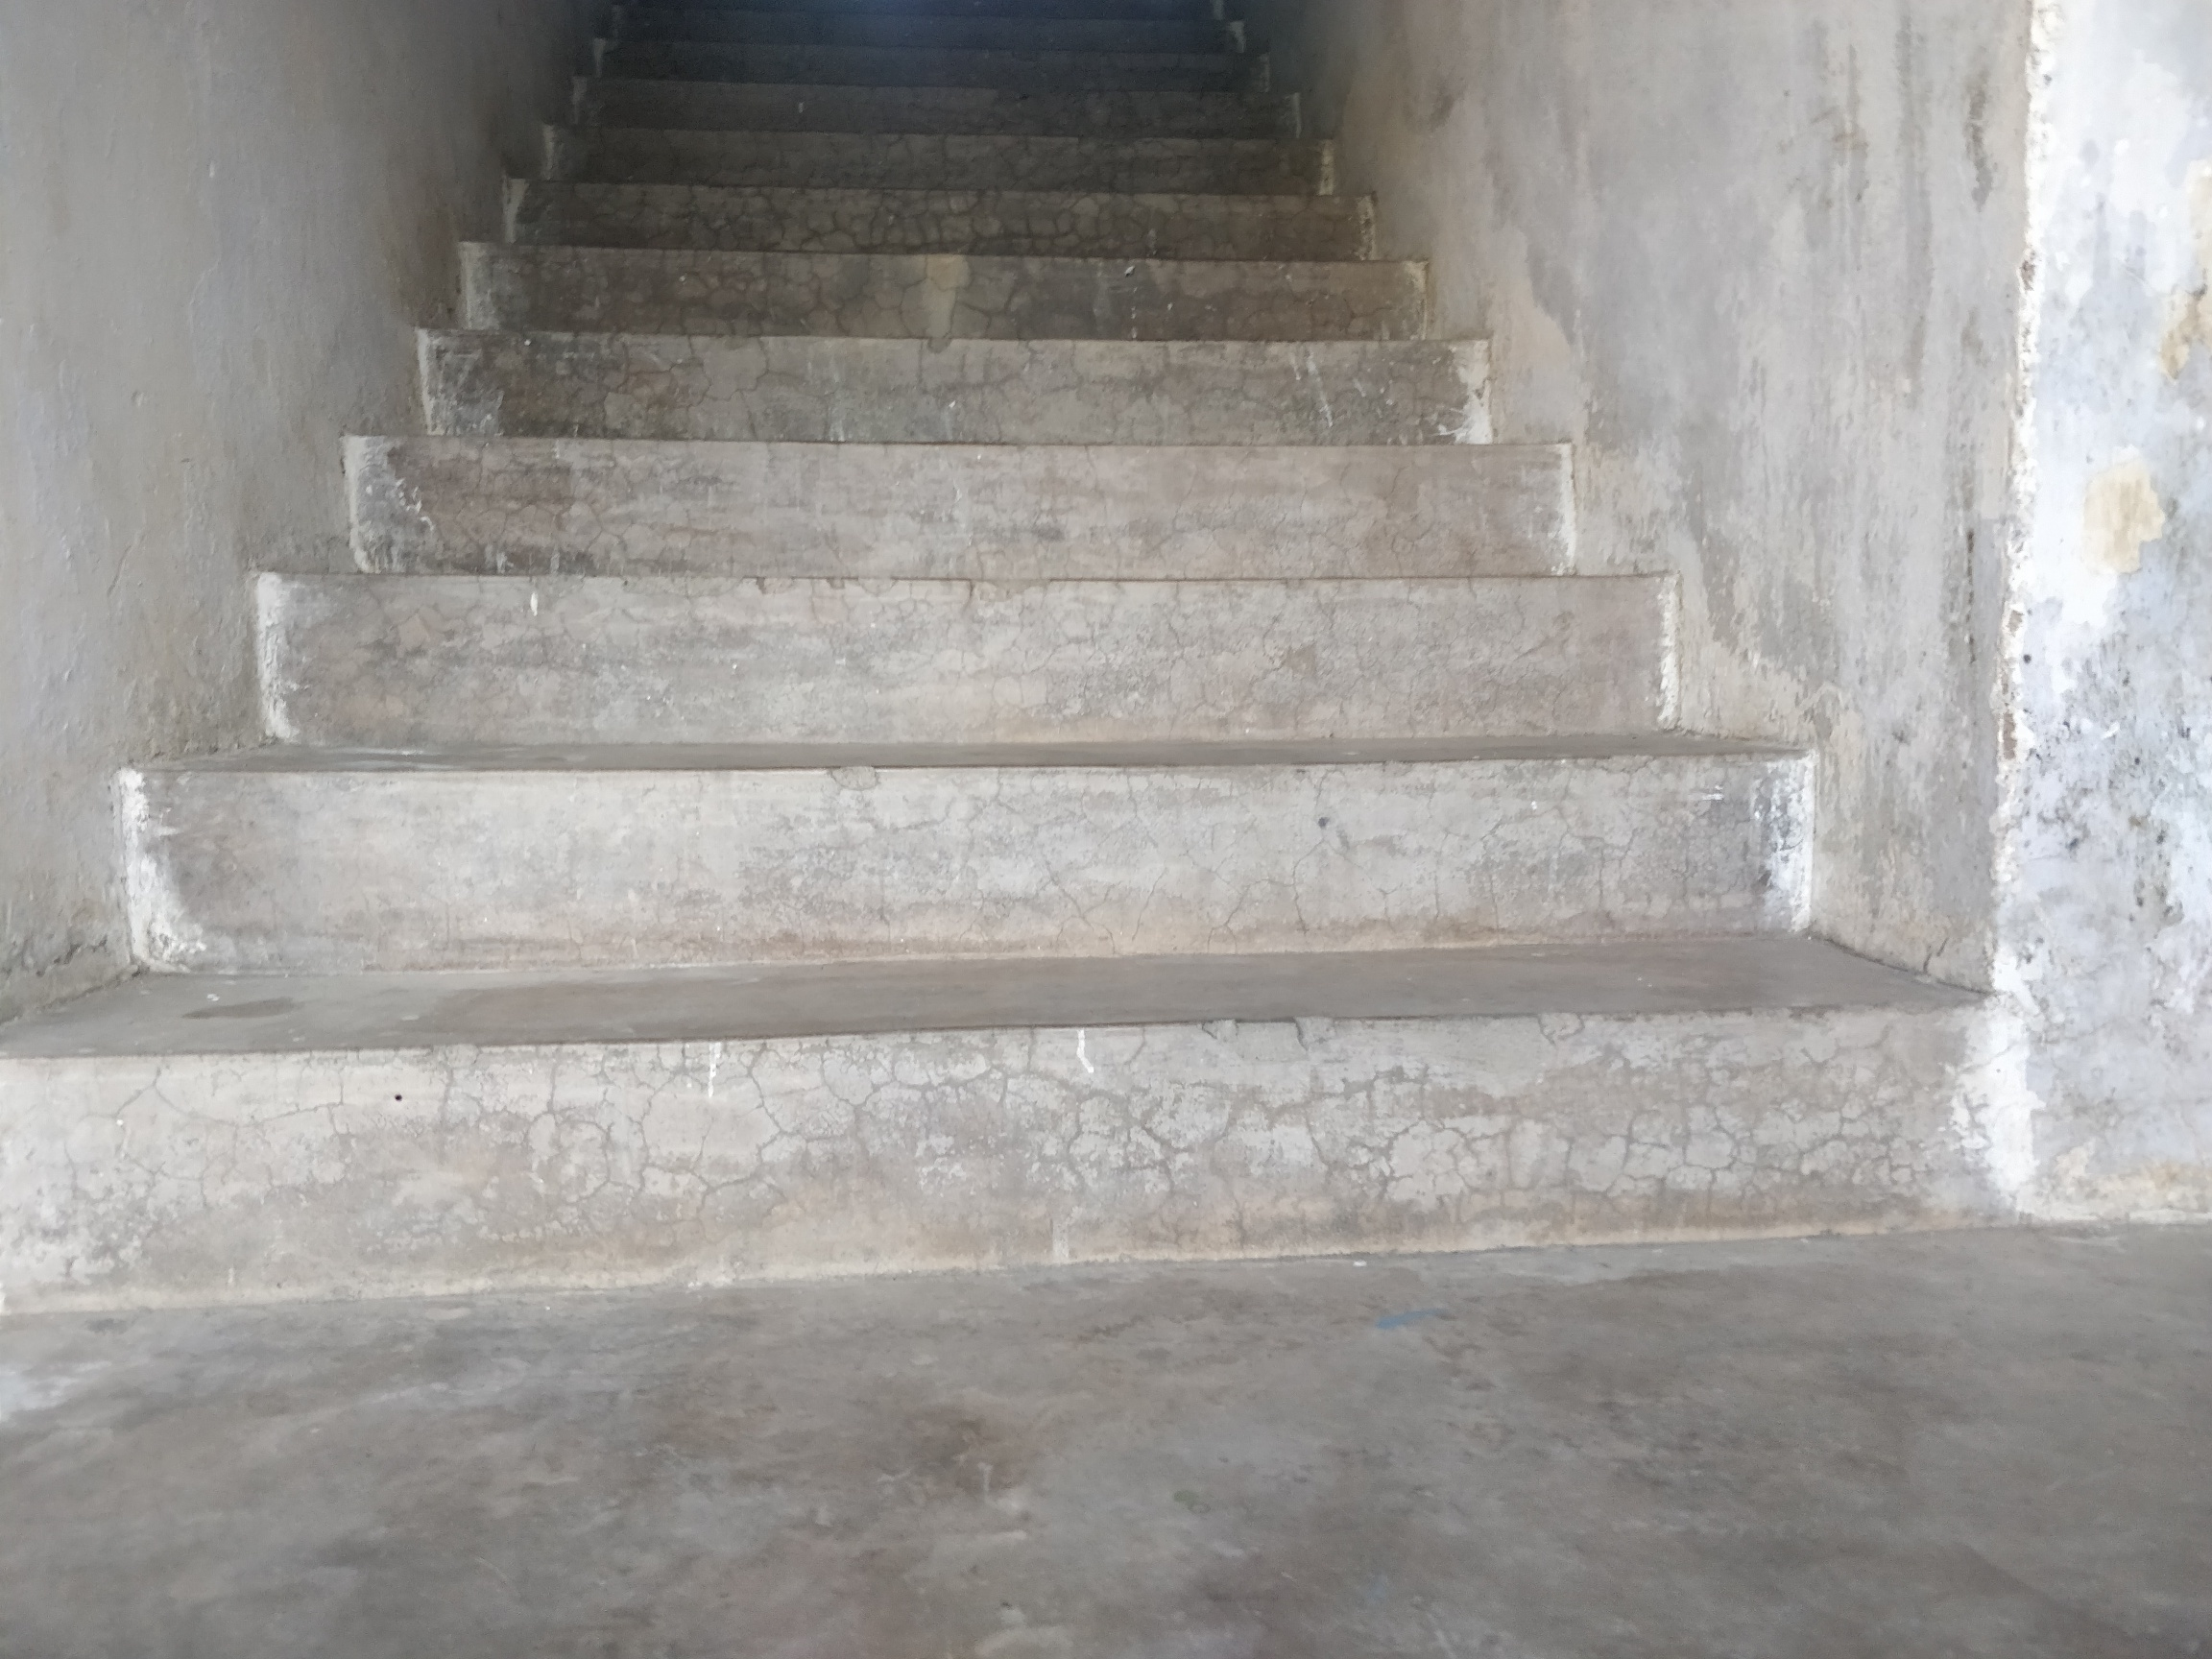stairs_up: (57, 132, 1998, 1297)
